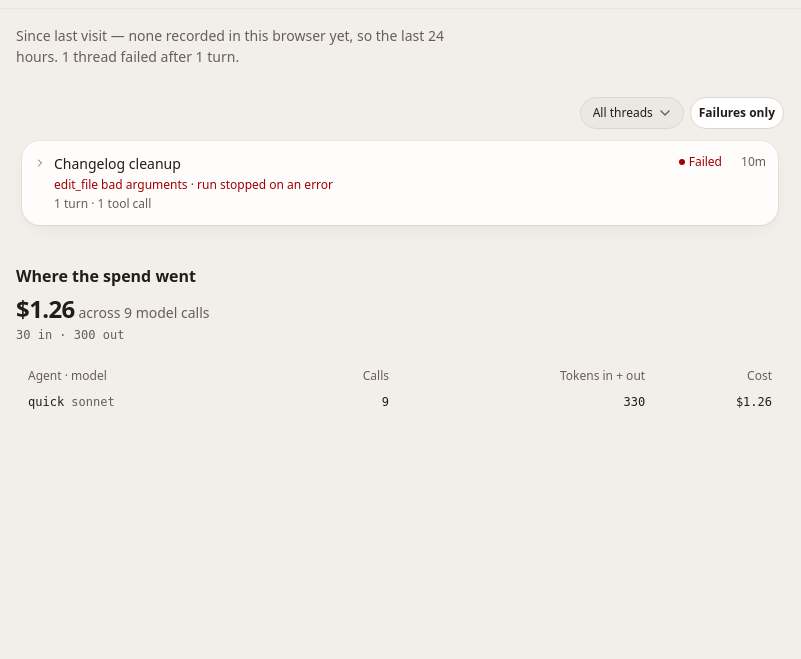
Test: the ledger page › closes an open event with Escape and leaves its thread open
Click the button "Changelog cleanup". click: x=117, y=164
box: [22,141,778,225]
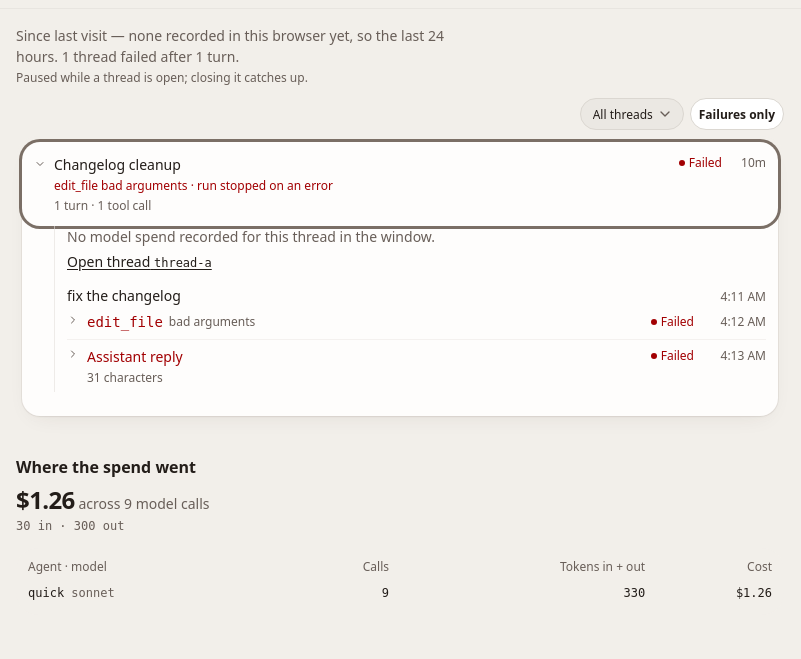
Click the button "edit_file bad arguments Failed 4:12 AM". click: x=125, y=322
box: [67,306,766,339]
(page scrolled)
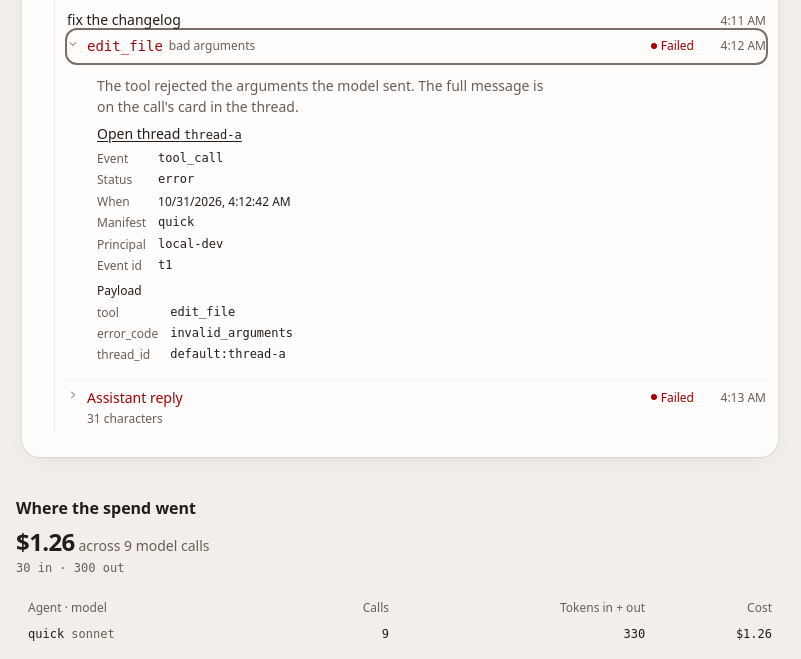
Expected: the button "edit_file bad arguments Failed 4:12 AM" is expanded, [67,30,766,63]
Note: The failed turn explains itself as one, now that it can be opened.
Click the button "Assistant reply Failed 4:13 AM 31 characters". click: x=135, y=397
box: [67,381,766,433]
(page scrolled)
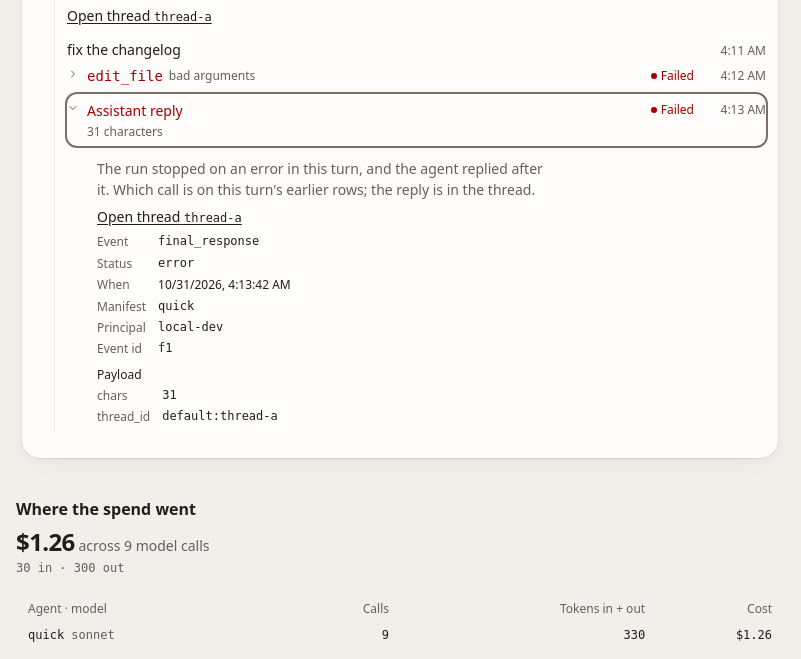
Expected: the text "The run stopped on an error" is shown, [97,159,543,199]
Press Escape
(page scrolled)
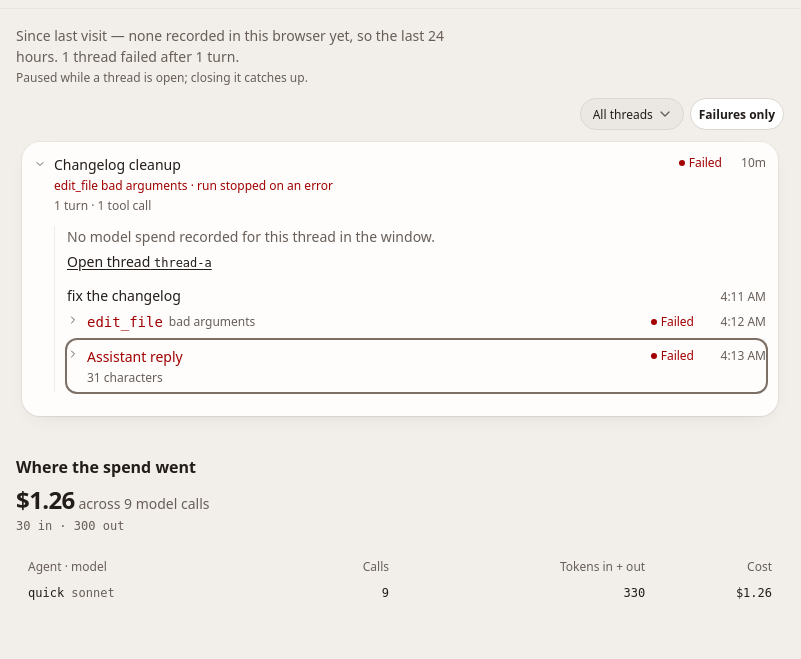
Expected: the button "Changelog cleanup" is expanded, [22,142,778,226]
Expected: the button "Assistant reply Failed 4:13 AM 31 characters" is collapsed, [67,340,766,392]
